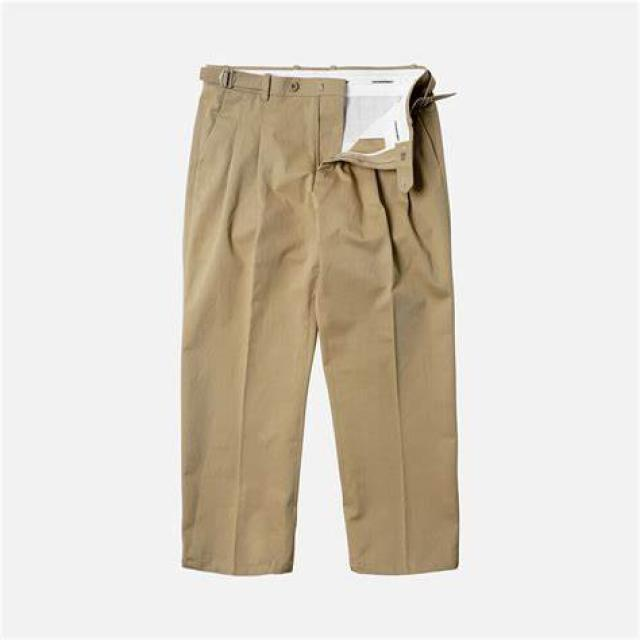long-pants: (178, 62, 461, 575)
